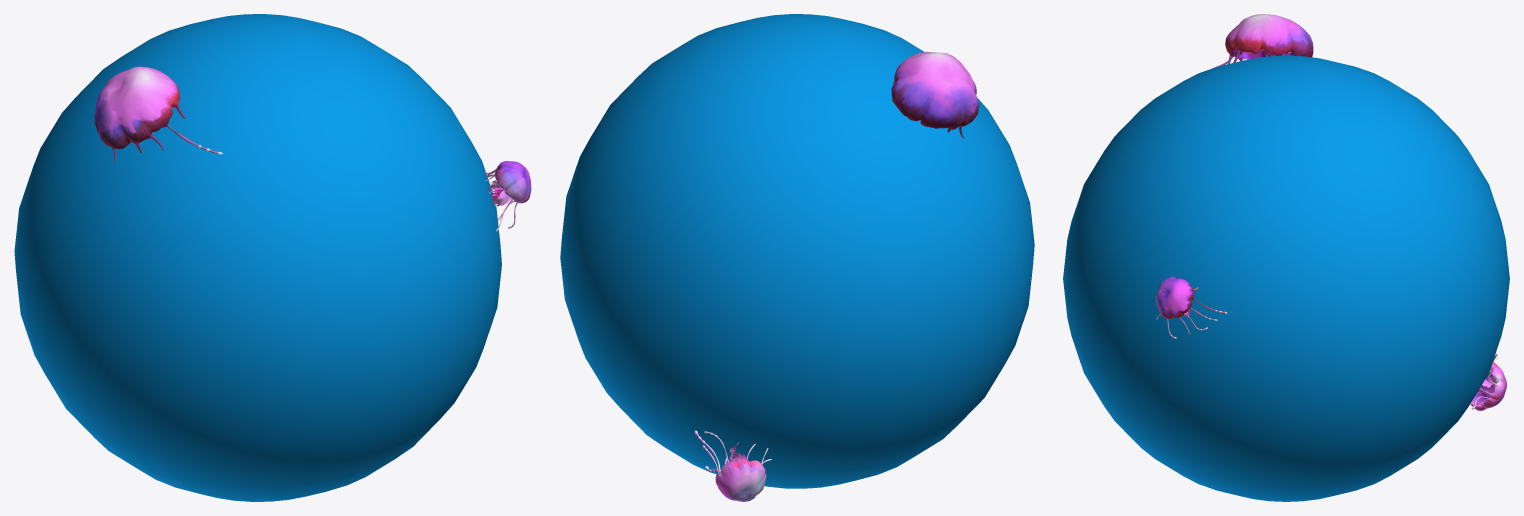
File: Giants deep.glb
3 renders of one model, left to right at view 1: azimuth 30°, elevation 25°; view 2: azimuth 150°, elevation 25°; view 3: azimuth 270°, elevation 25°, orthographic. The views are drawn at different scales.
Visible parts, largest first — view 1: Ocean_Core, jellies.001, jellies; view 2: Ocean_Core, jellies.001, jellies.002; view 3: Ocean_Core, jellies.001, jellies, jellies.002.
Part boxes in pixels (x1,y1,x2,y2): Ocean_Core: (14, 14, 501, 501); jellies.001: (94, 66, 222, 163); jellies: (485, 161, 531, 231); Ocean_Core: (560, 14, 1034, 488); jellies.001: (891, 51, 979, 138); jellies.002: (694, 430, 771, 501); Ocean_Core: (1063, 55, 1509, 501); jellies.001: (1212, 14, 1313, 68); jellies: (1156, 276, 1227, 338); jellies.002: (1470, 353, 1507, 410).
Bounding box in the file's own units: 3.52 × 3.56 × 3.52.
5 materials, 2 textured.
